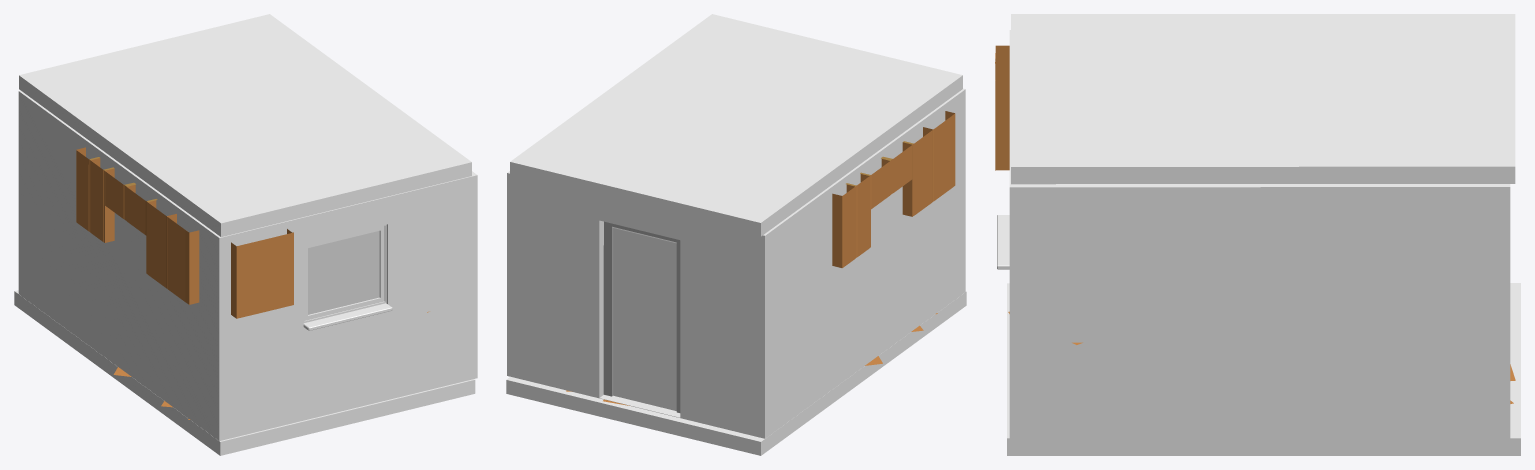
File: FloorPlan27_physics.fbx
3 views of the same model, side by side, from view 1: azimuth 30°, elevation 25°; view 2: azimuth 150°, elevation 25°; view 3: azimuth 270°, elevation 25° (orthographic). The views are drawn at different scales.
Parts seen in each view (by area): view 1: Room.026, Ceiling.002, Cube.155, Floor.002, Window, WindowFrame; view 2: Room.026, Ceiling.002, Door, Cube.155, Floor.002, DoorFrame; view 3: Room.026, Ceiling.002, Floor.002, Cube.155, WindowFrame.
Part boxes in pixels (bbox=[...]): Room.026: bbox=[18, 90, 477, 440]; Ceiling.002: bbox=[19, 14, 471, 236]; Cube.155: bbox=[76, 147, 293, 318]; Floor.002: bbox=[14, 290, 475, 455]; Window: bbox=[308, 231, 379, 314]; WindowFrame: bbox=[303, 224, 392, 330]; Room.026: bbox=[507, 88, 965, 438]; Ceiling.002: bbox=[510, 14, 962, 236]; Door: bbox=[613, 228, 676, 410]; Cube.155: bbox=[832, 111, 955, 267]; Floor.002: bbox=[506, 291, 966, 455]; DoorFrame: bbox=[603, 221, 680, 412]; Room.026: bbox=[1009, 30, 1510, 440]; Ceiling.002: bbox=[1011, 14, 1515, 184]; Floor.002: bbox=[1007, 283, 1520, 455]; Cube.155: bbox=[995, 45, 1009, 170]; WindowFrame: bbox=[997, 215, 1009, 269].
Bounding box in the file's own units: 339 × 273 × 452.
